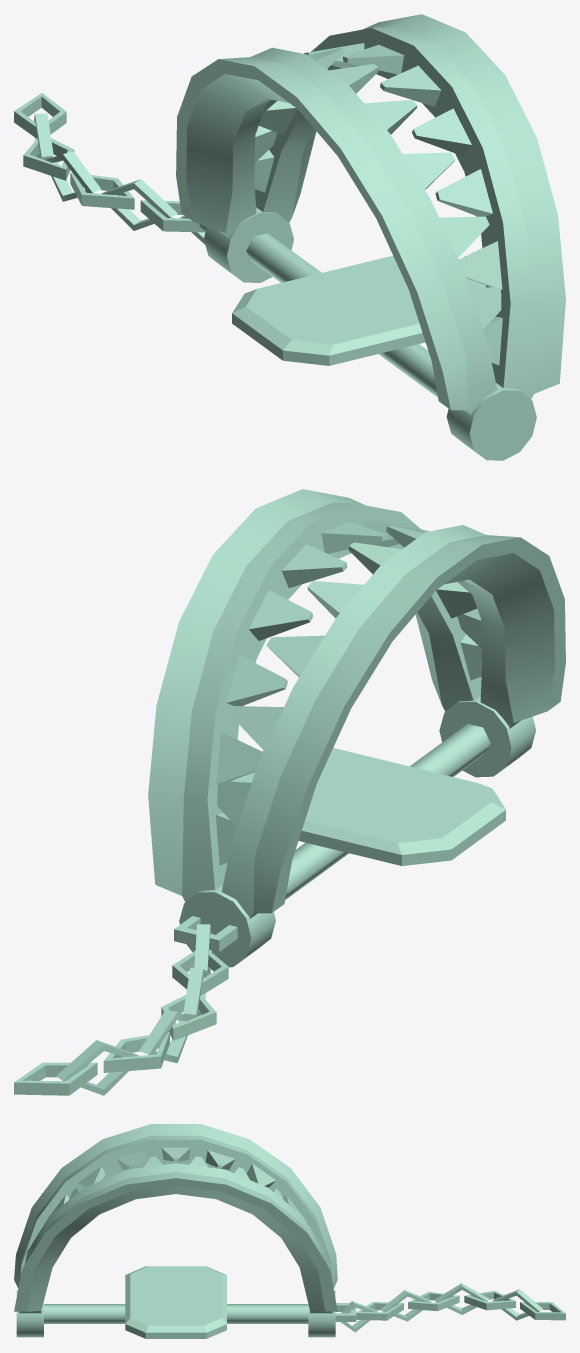
File: BearTrapClosed.fbx
The picture shows the model from 3 angles, top to bottom: view 1: azimuth 30°, elevation 25°; view 2: azimuth 150°, elevation 25°; view 3: azimuth 270°, elevation 25°; orthographic projection. The views are drawn at different scales.
Parts seen in each view (by area): view 1: RightArm, LeftArm, BearTrapClosed; view 2: RightArm, LeftArm, BearTrapClosed; view 3: BearTrapClosed, LeftArm, RightArm.
Part boxes in pixels (left/top/right/bottom): RightArm: left=176, top=47, right=501, bottom=414; LeftArm: left=254, top=14, right=565, bottom=399; BearTrapClosed: left=14, top=93, right=536, bottom=460; RightArm: left=217, top=525, right=565, bottom=918; LeftArm: left=148, top=489, right=481, bottom=901; BearTrapClosed: left=14, top=696, right=535, bottom=1095; BearTrapClosed: left=16, top=1266, right=565, bottom=1338; LeftArm: left=14, top=1156, right=337, bottom=1313; RightArm: left=14, top=1124, right=337, bottom=1288.
Size of the model in its own units: 34.48 by 44.91 by 121.
